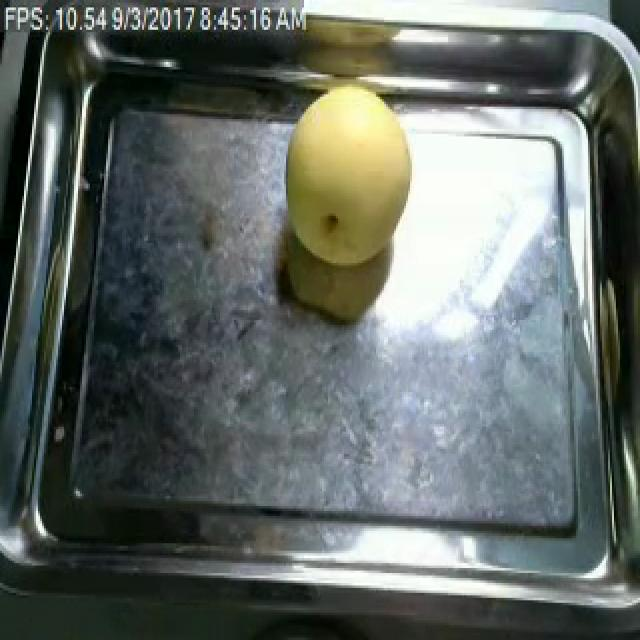Fruit: (274, 79, 428, 278)
